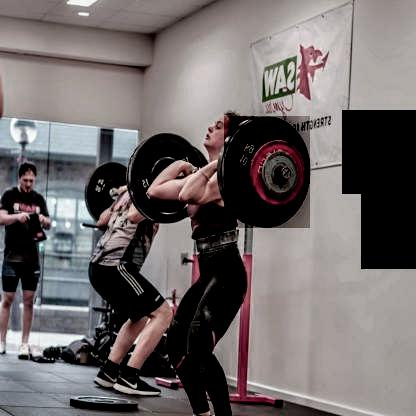barbell: (223, 117, 308, 229)
